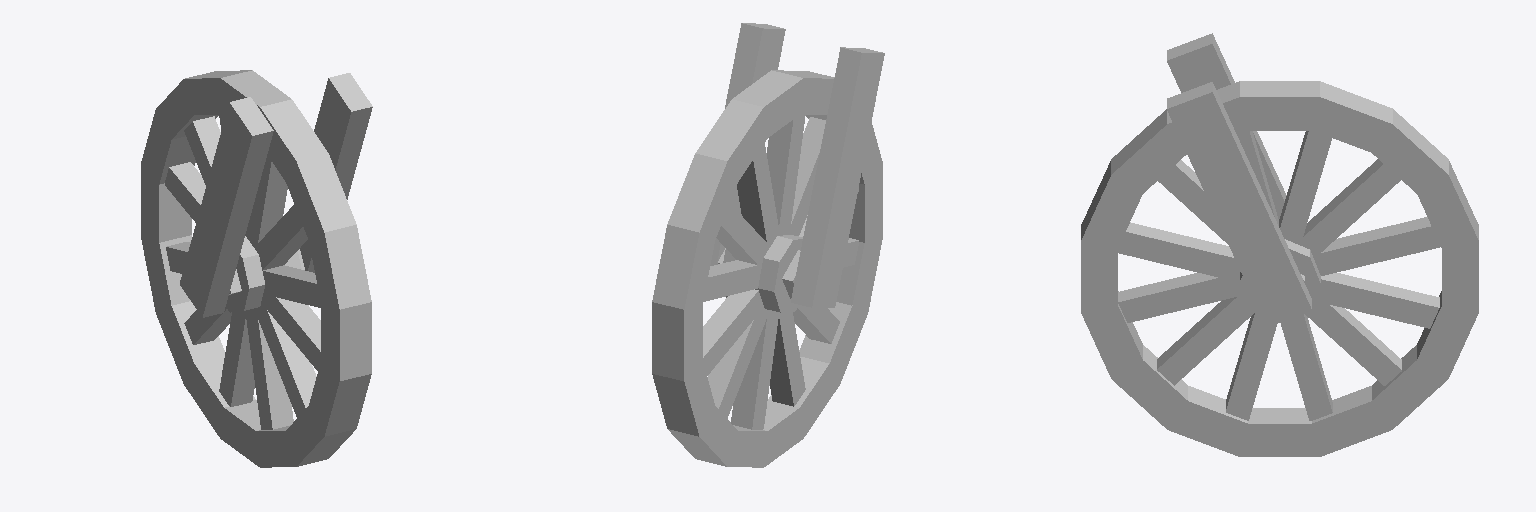
Rendered from mt_wheel_center_s.obj.
3 views of the same model, side by side, from view 1: azimuth 30°, elevation 25°; view 2: azimuth 150°, elevation 25°; view 3: azimuth 270°, elevation 25° (orthographic).
Visible parts, largest first — view 1: cube.006, cube.005, cube.007, cube.003, hexadecagon.003, hexadecagon.004, cube.002, hexadecagon.005, cube.004, cube.000, hexadecagon.002, hexadecagon.006 (+13 smaller); view 2: cube.006, cube.005, cube.004, cube.000, hexadecagon.007, hexadecagon.014, hexadecagon.013, hexadecagon.008, cube.007, cube.003, hexadecagon.012, cube.001 (+14 smaller); view 3: cube.007, cube.001, cube.002, cube.003, cube.004, cube.000, hexadecagon.008, cube.005, hexadecagon.009, cube.006, hexadecagon.010, hexadecagon.000 (+13 smaller).
Part boxes in pixels (x1,y1,x2,y2): cube.006: (180, 97, 273, 317); cube.005: (219, 155, 287, 406); cube.007: (300, 73, 372, 272); cube.003: (184, 116, 316, 417); hexadecagon.003: (283, 154, 356, 246); hexadecagon.004: (309, 225, 371, 309); cube.002: (165, 162, 320, 370); hexadecagon.005: (321, 297, 371, 381); cube.004: (219, 115, 293, 429); cube.000: (184, 204, 307, 344); hexadecagon.002: (260, 99, 328, 181); hexadecagon.006: (309, 363, 371, 436); cube.006: (791, 47, 884, 307); cube.005: (731, 115, 805, 429); cube.004: (737, 143, 805, 406); cube.000: (708, 117, 825, 418); hexadecagon.007: (667, 154, 740, 246); hexadecagon.014: (652, 225, 714, 309); hexadecagon.013: (652, 297, 702, 381); hexadecagon.008: (695, 99, 767, 181); cube.007: (710, 23, 785, 265); cube.003: (716, 203, 839, 343); hexadecagon.012: (652, 363, 714, 436); cube.001: (703, 188, 858, 375); cube.007: (1167, 82, 1311, 327); cube.001: (1118, 222, 1439, 328); cube.002: (1118, 217, 1440, 322); cube.003: (1157, 159, 1400, 385); cube.004: (1226, 131, 1331, 420); cube.000: (1158, 160, 1401, 385); hexadecagon.008: (1306, 81, 1392, 154); cube.005: (1237, 131, 1332, 420); hexadecagon.009: (1240, 81, 1319, 130); cube.006: (1167, 33, 1286, 218); hexadecagon.010: (1305, 386, 1391, 456); hexadecagon.000: (1168, 386, 1254, 456).
Size of the model in its own units: 0.35 by 1.07 by 1.